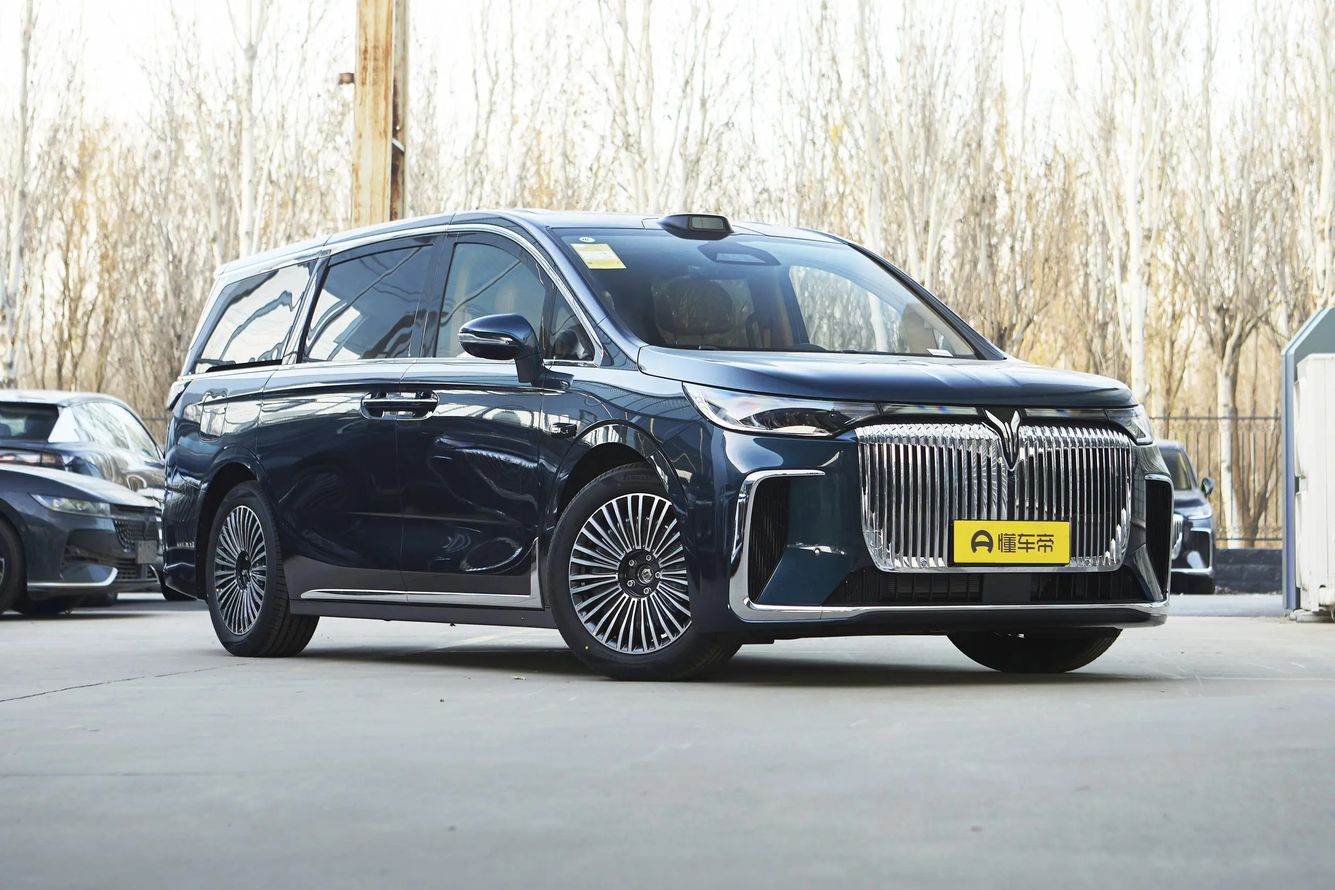VOYAH: (985, 410, 1019, 462)
